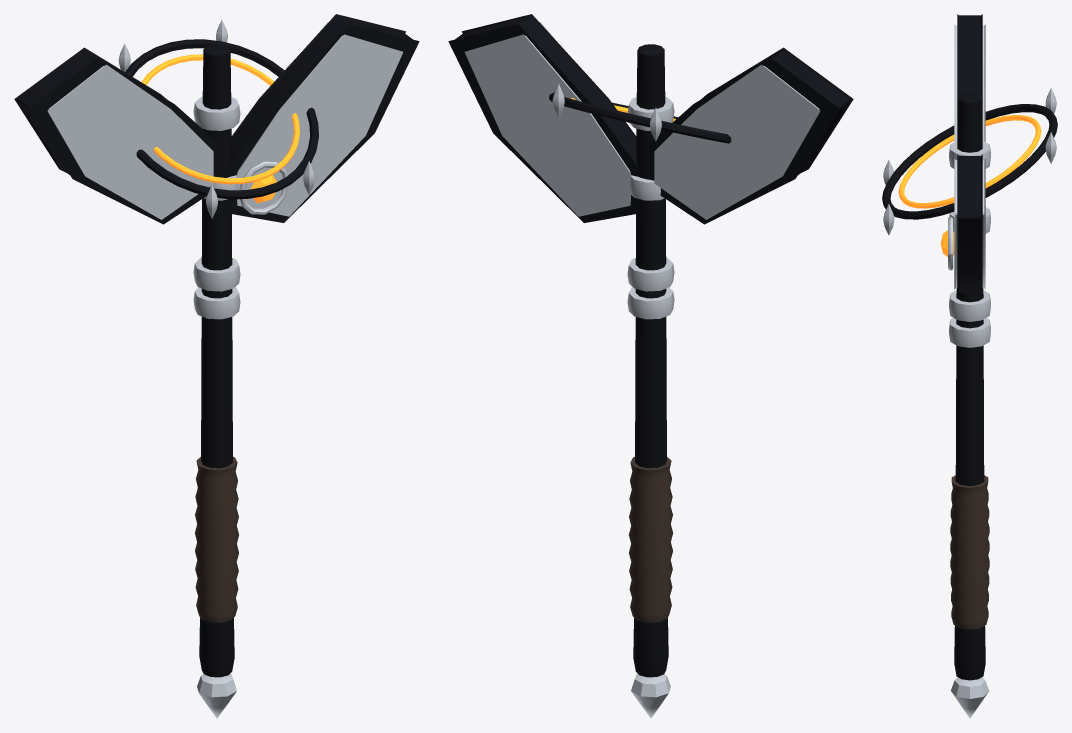
Rendered from esc_w_knight_axe_4.glb.
The picture shows the model from 3 angles, left to right: view 1: azimuth 30°, elevation 25°; view 2: azimuth 150°, elevation 25°; view 3: azimuth 270°, elevation 25°; orthographic projection. The views are drawn at different scales.
Parts seen in each view (by area): view 1: esc_w_knight_axe_4; view 2: esc_w_knight_axe_4; view 3: esc_w_knight_axe_4.
Part boxes in pixels (left/top/right/bottom): esc_w_knight_axe_4: left=14, top=14, right=419, bottom=718; esc_w_knight_axe_4: left=448, top=14, right=853, bottom=718; esc_w_knight_axe_4: left=882, top=14, right=1057, bottom=718.
Size of the model in its own units: 0.5876 by 0.9989 by 0.2457.
